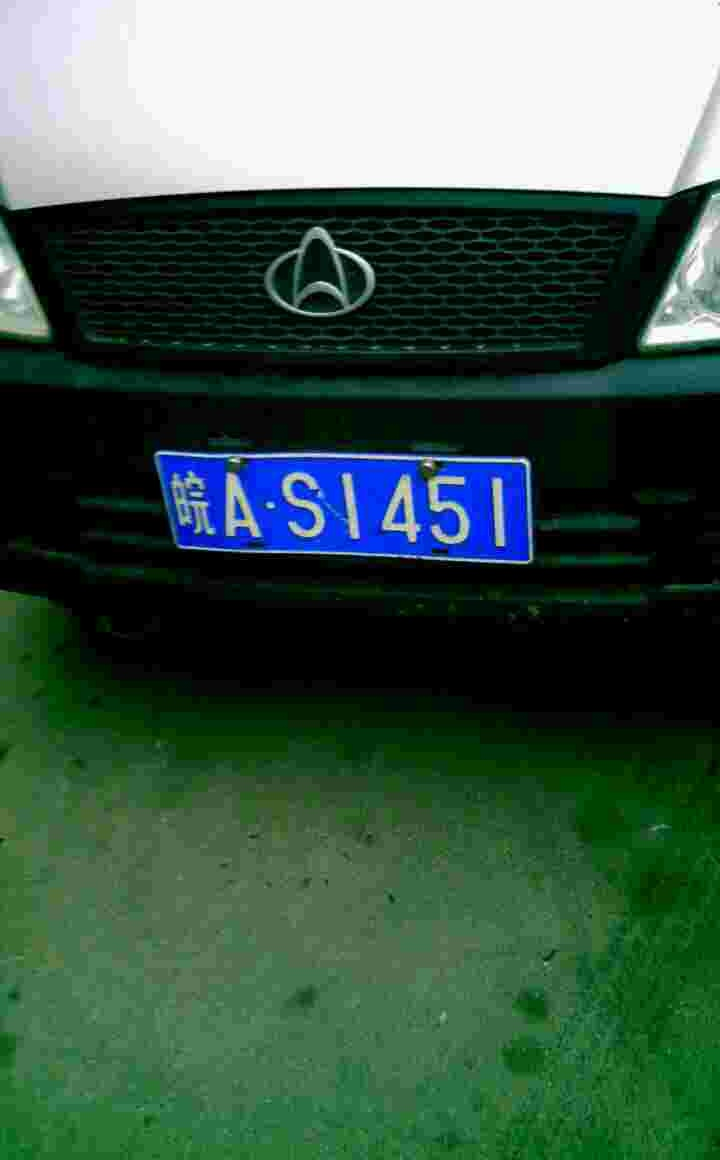car_blue: (149, 446, 539, 573)
